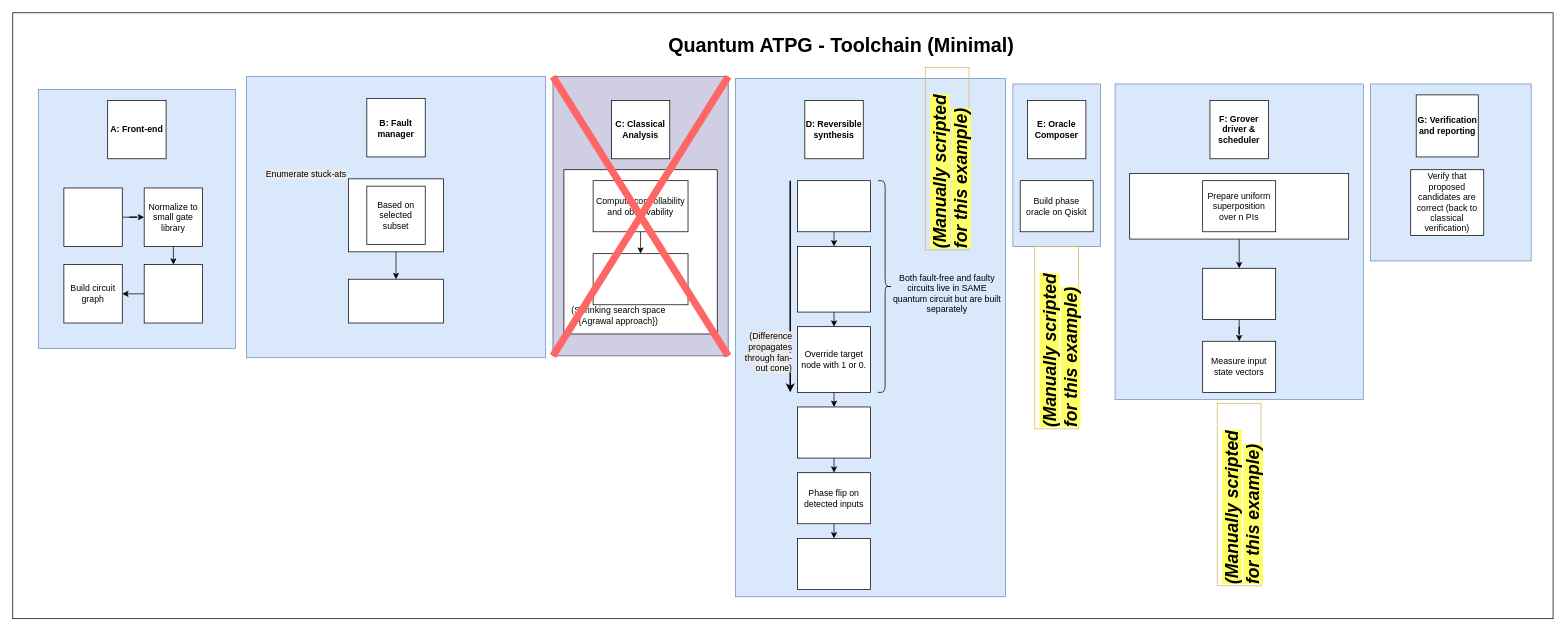
Some shapes in this 1566 by 631 pixel diagram are drawn without their labels. The shapes that lost their labels are listed below. From the top down, each one's centre as x and y in pixels, then its label:
At (x=92, y=216): "Parse HDL".
At (x=834, y=206): "Synthesize good circuit reversibly".
At (x=173, y=293): "Turn graph into Directed Acyclic Graph (DAG) of gates".
At (x=640, y=279): "Derive activation and propagation constraints".
At (x=834, y=279): "Build faulty circuit by replicating logic up to target node.".
At (x=1239, y=293): "Apply needed Grover iterations".
At (x=395, y=300): "For each target node D, we define two fan-out comput nodes: good vs faulty".
At (x=834, y=432): "Compare good vs faulty by XORing output".
At (x=834, y=563): "Uncompute all work ancillas".
